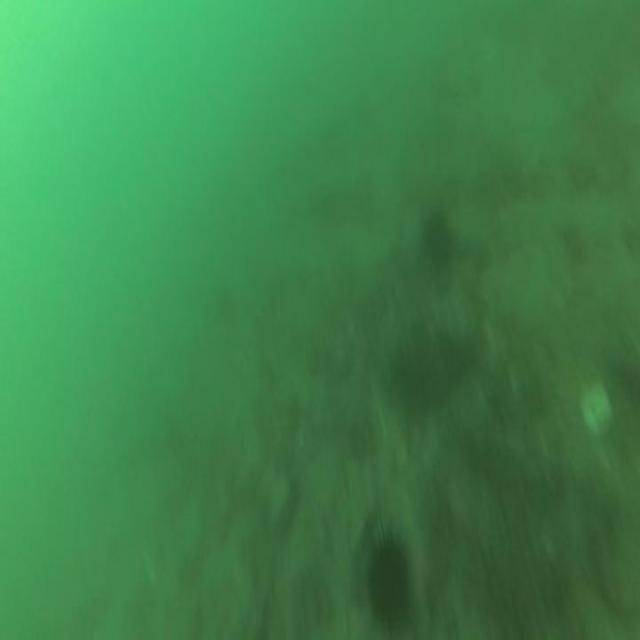echinus: (358, 509, 420, 635), (416, 197, 457, 275)
scallop: (576, 373, 615, 441)
